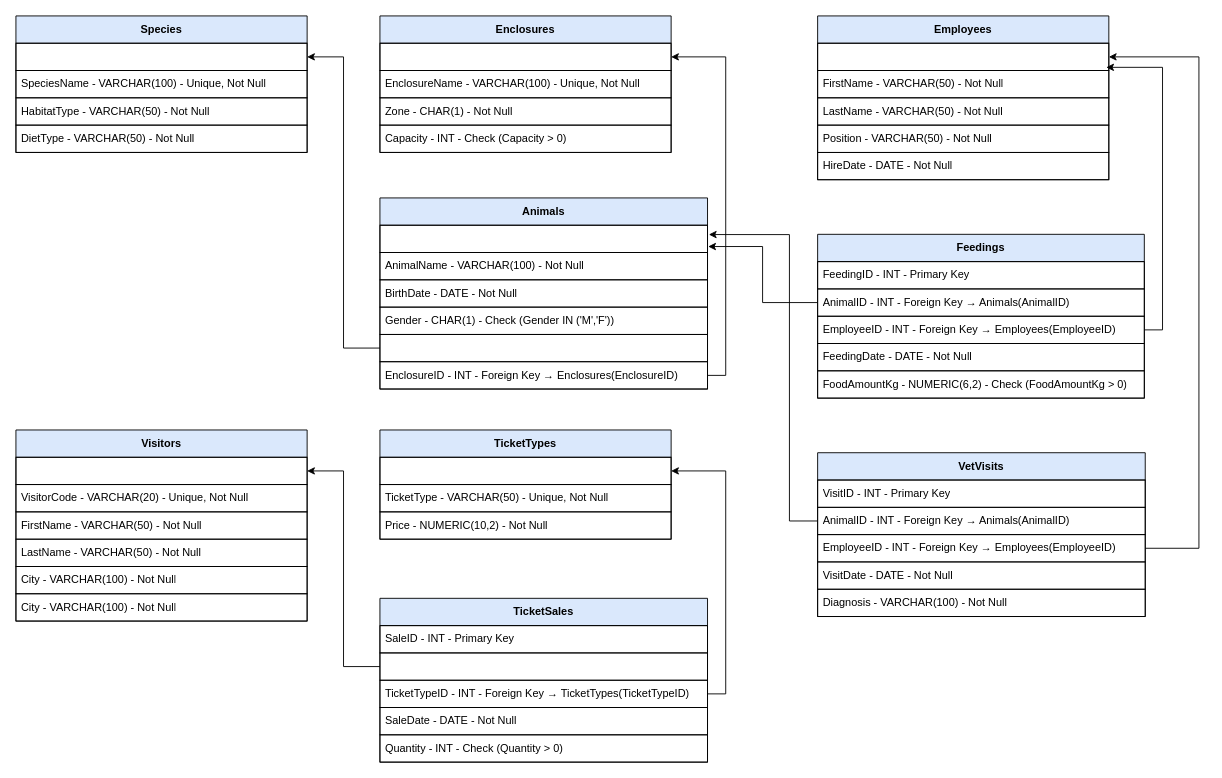
The diagram is 1222 pixels wide and 778 high, and some of its shapes have lost their labels. Each missing label, with the centre of its shape:
AnimalID - INT - Primary Key: point 543,238
EmployeeID - INT - Primary Key: point 963,56
EnclosureID - INT - Primary Key: point 525,56
SpeciesID - INT - Foreign Key → Species(SpeciesID): point 543,348
SpeciesID - INT - Primary Key: point 161,56
TicketTypeID - INT - Primary Key: point 525,470
VisitorID - INT - Foreign Key → Visitors(VisitorID): point 543,666
VisitorID - INT - Primary Key: point 161,470
